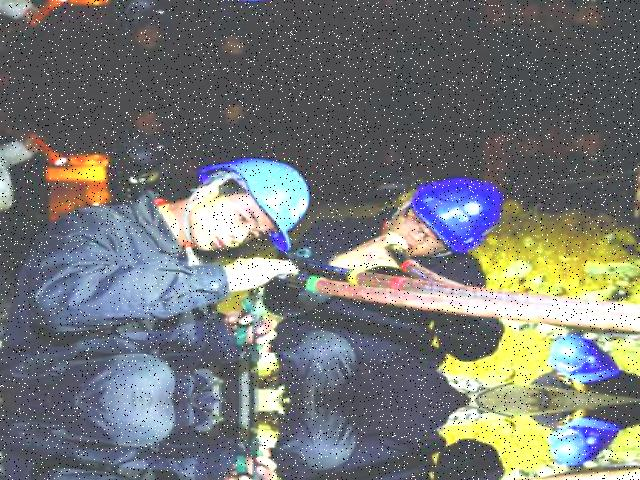Helmet: (196, 152, 316, 255), (406, 172, 508, 259), (548, 328, 624, 391)
